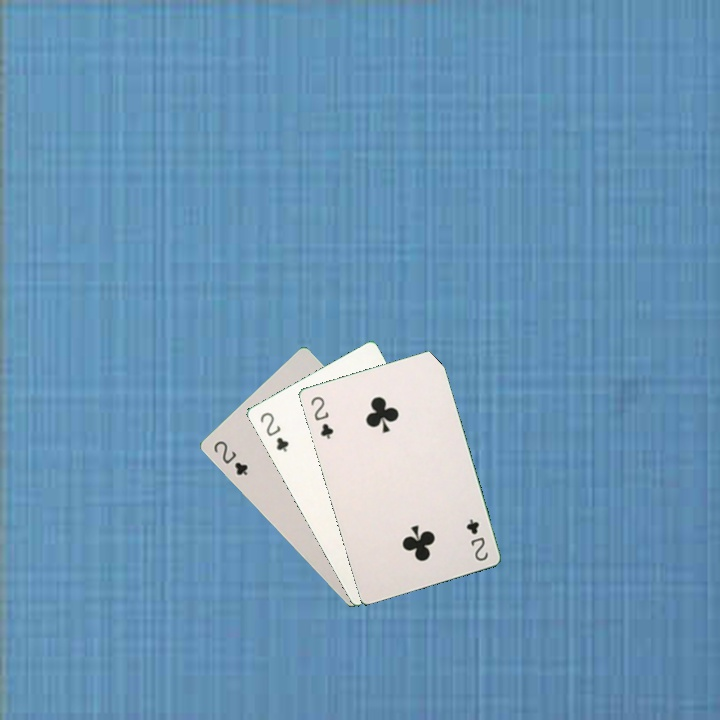2c: (209, 436, 250, 478), (256, 408, 291, 455), (307, 392, 336, 442), (462, 515, 491, 564)
